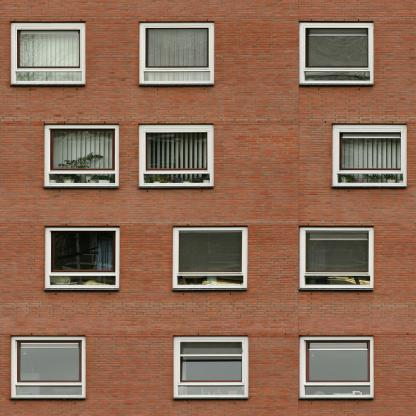Building Outline: (0, 0, 415, 415)
Facade: (0, 0, 415, 415)
Floor: (1, 0, 416, 114), (1, 221, 416, 325), (1, 119, 416, 216), (1, 330, 416, 416)
Floor Slab: (1, 325, 416, 330), (1, 114, 416, 119), (1, 216, 416, 221)
Window: (12, 335, 86, 397), (11, 22, 85, 84), (140, 22, 214, 84), (300, 22, 374, 84), (333, 124, 407, 186), (139, 124, 213, 186), (45, 124, 119, 186), (46, 226, 120, 288), (174, 226, 248, 288), (300, 226, 374, 288), (300, 336, 374, 398), (174, 336, 248, 398)
